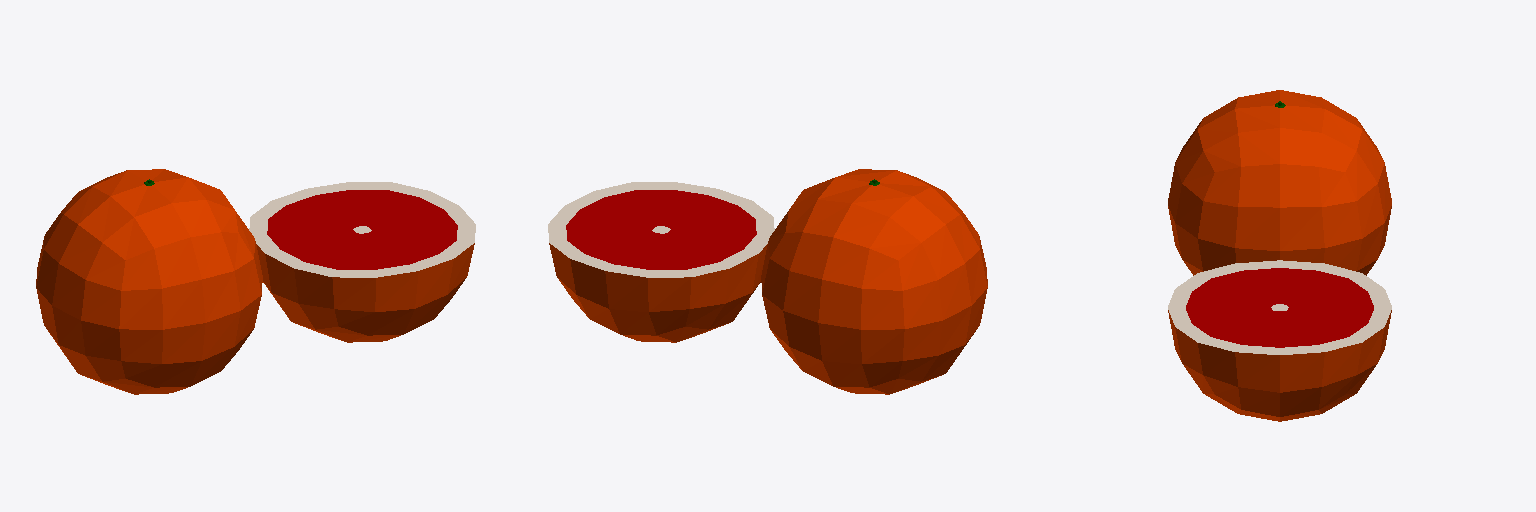
File: grapefruit.obj
3 views of the same model, side by side, from view 1: azimuth 30°, elevation 25°; view 2: azimuth 150°, elevation 25°; view 3: azimuth 270°, elevation 25° (orthographic).
Bounding box in the file's own units: 2.68 × 1.28 × 1.28.